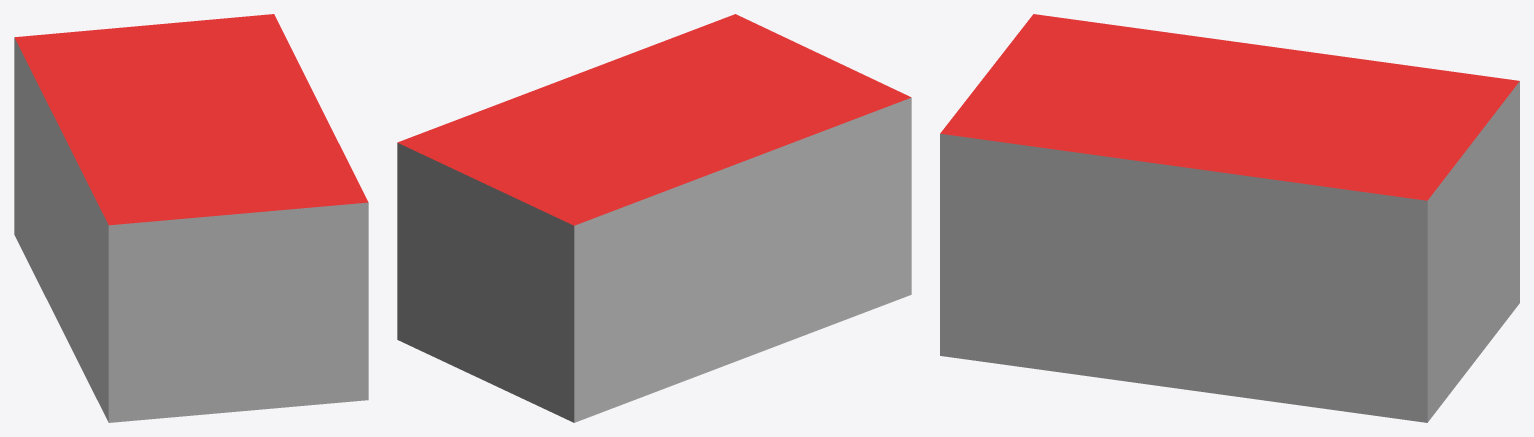
The model's file is DEBE3D01YYK0002LMK.dae.
3 renders of one model, left to right at view 1: azimuth 30°, elevation 25°; view 2: azimuth 150°, elevation 25°; view 3: azimuth 270°, elevation 25°, orthographic. The views are drawn at different scales.
Bounding box in the file's own units: 16.37 × 21.48 × 9.08.
